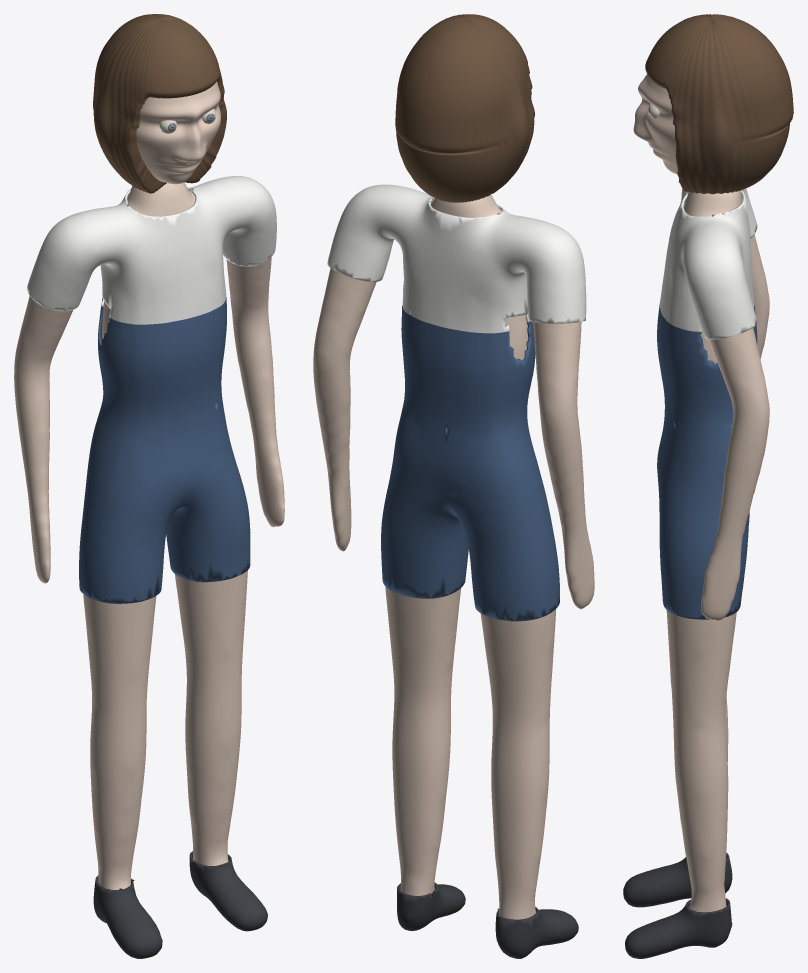
The model's file is Figure_Daughter_Standing.fbx.
3 renders of one model, left to right at view 1: azimuth 30°, elevation 25°; view 2: azimuth 150°, elevation 25°; view 3: azimuth 270°, elevation 25°, orthographic. The views are drawn at different scales.
Parts seen in each view (by area): view 1: Clothes, Body, Hair, Head; view 2: Clothes, Body, Hair; view 3: Clothes, Body, Hair, Head.
Boxes of the visible parts, left/top/right/bottom form: Clothes: left=27, top=176, right=276, bottom=958; Body: left=14, top=182, right=284, bottom=889; Hair: left=93, top=14, right=226, bottom=193; Head: left=136, top=81, right=220, bottom=184; Clothes: left=327, top=184, right=586, bottom=958; Body: left=313, top=194, right=594, bottom=919; Hair: left=395, top=14, right=534, bottom=202; Clothes: left=623, top=188, right=757, bottom=958; Body: left=666, top=190, right=769, bottom=912; Hair: left=645, top=14, right=793, bottom=194; Head: left=633, top=74, right=677, bottom=174.
Size of the model in its own units: 0.3868 by 1.32 by 0.2246.
